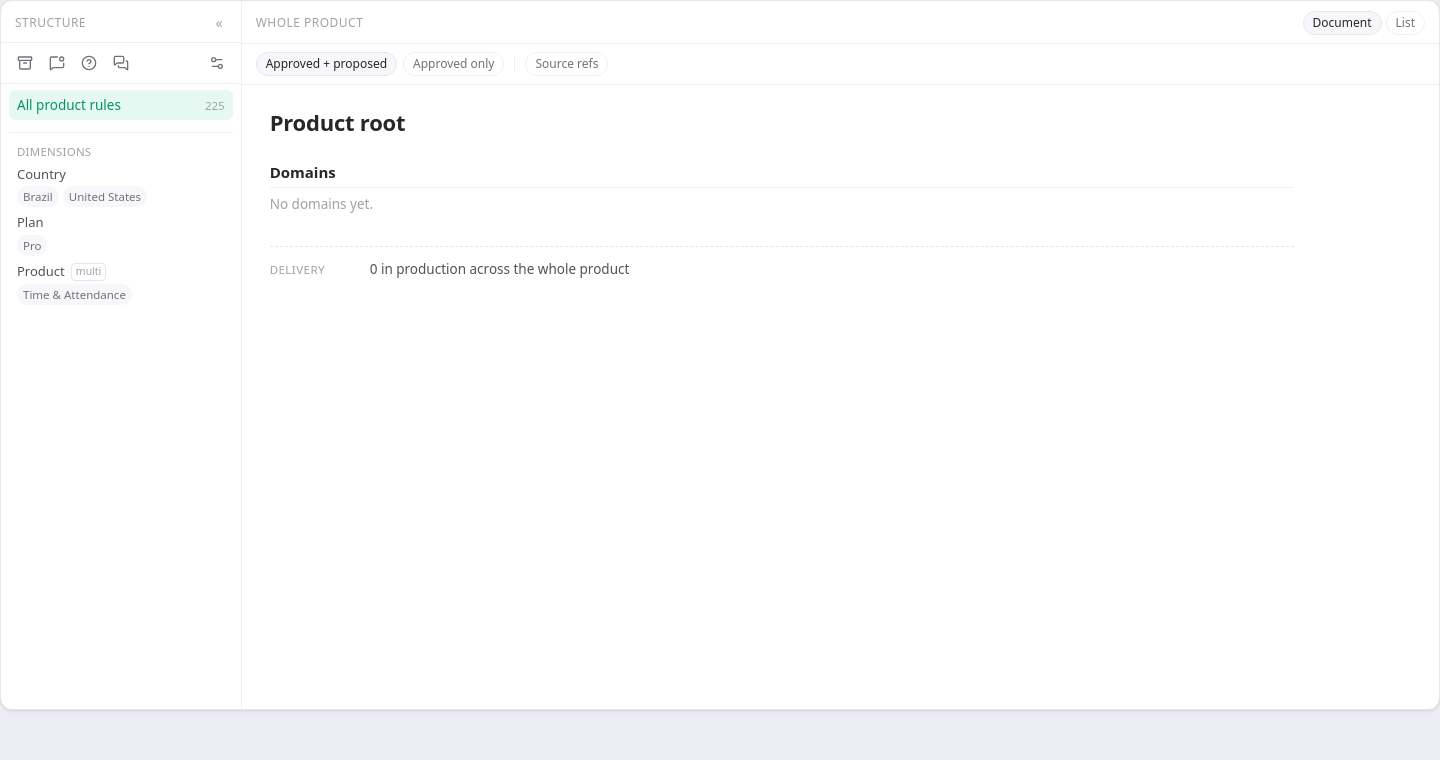
it: labels the hidden count as a lower bound once a second preview page has loaded
The width and height of the screenshot is (1440, 760).
Click the button "List": (1405, 23) [1386,11,1425,35]
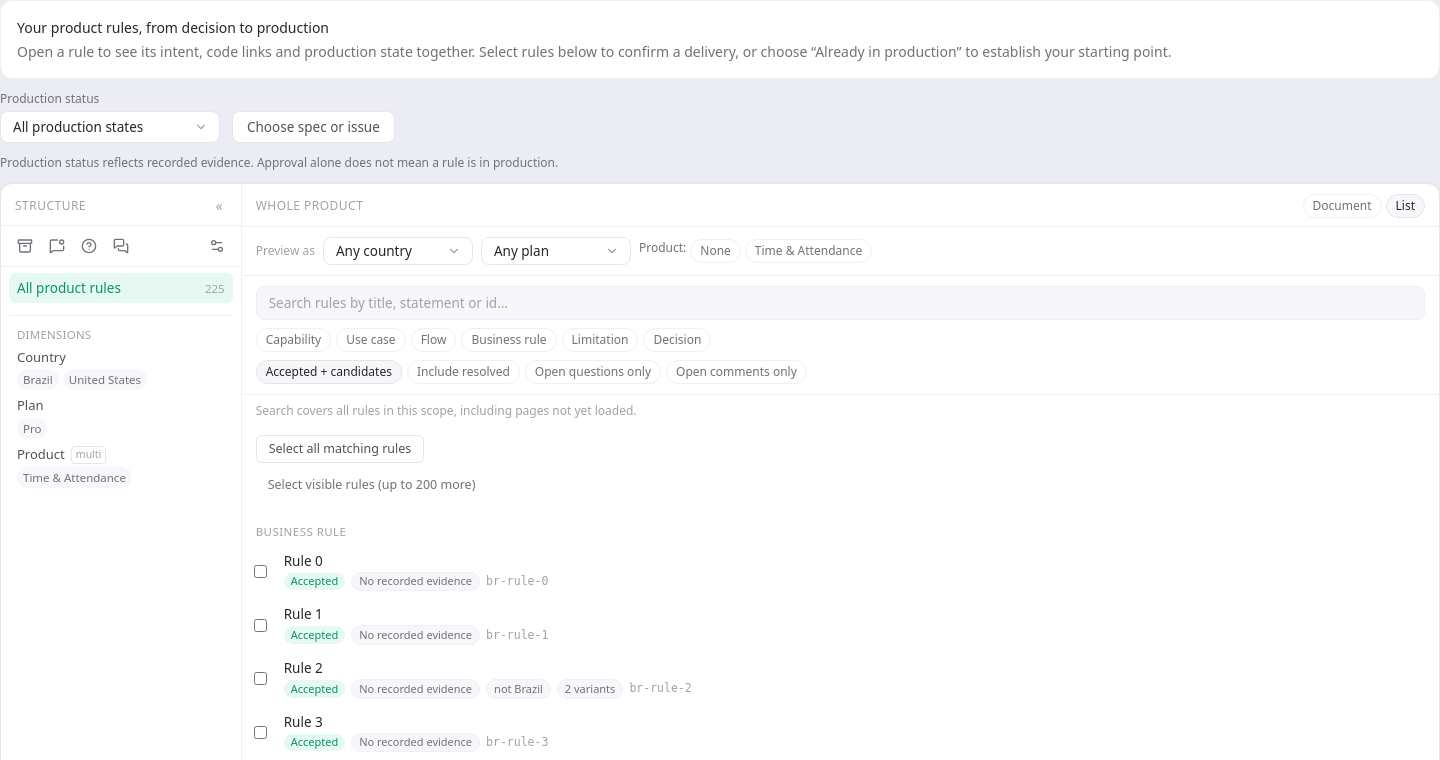
Now the checkbox named "Select Rule 0 for delivery" is shown, box [254,565,267,578]
Select "Brazil" in the dropdown named "Country": (398, 251) [323,237,473,265]
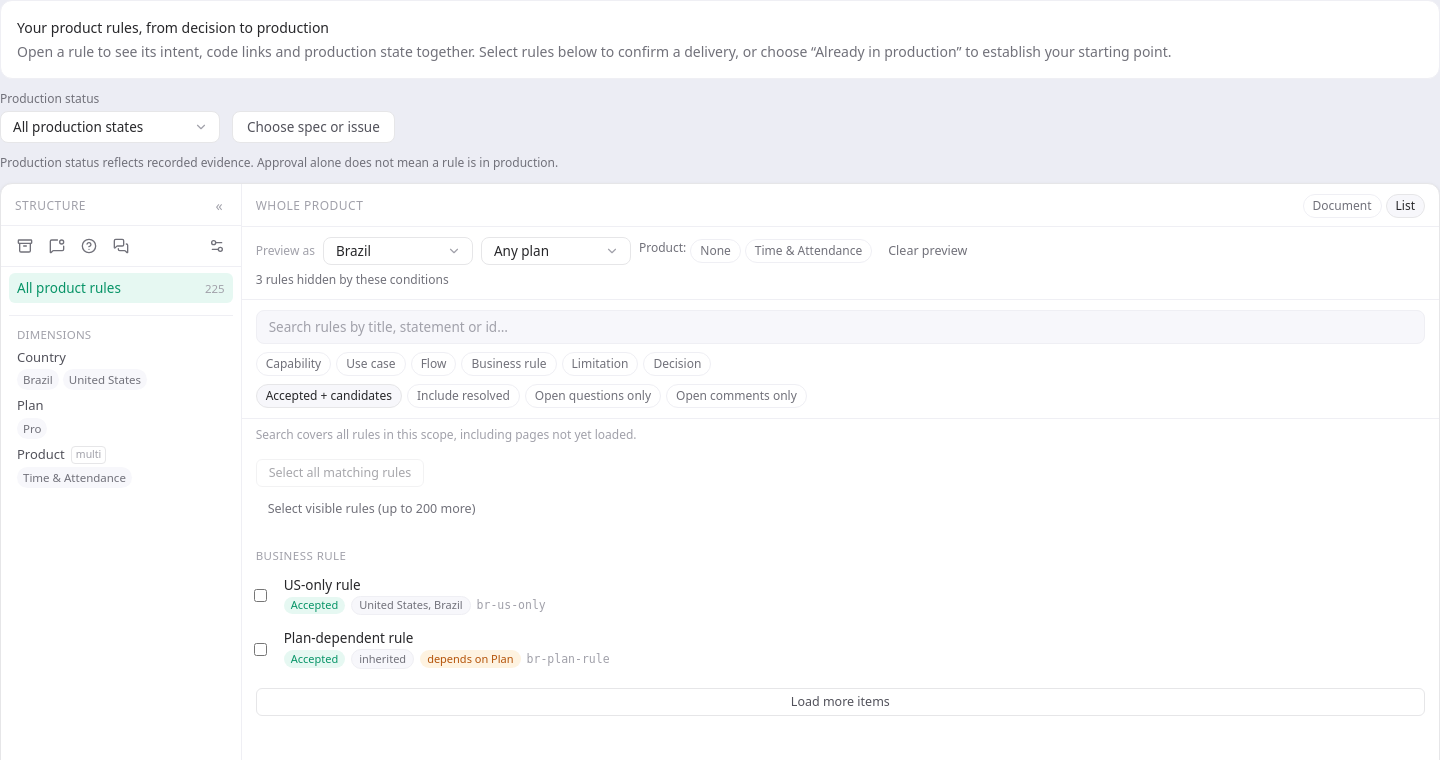
Now the text "3 rules hidden by these conditions" is shown, box [256,271,449,288]
Click the button "Load more items": (840, 702) [256,688,1425,716]
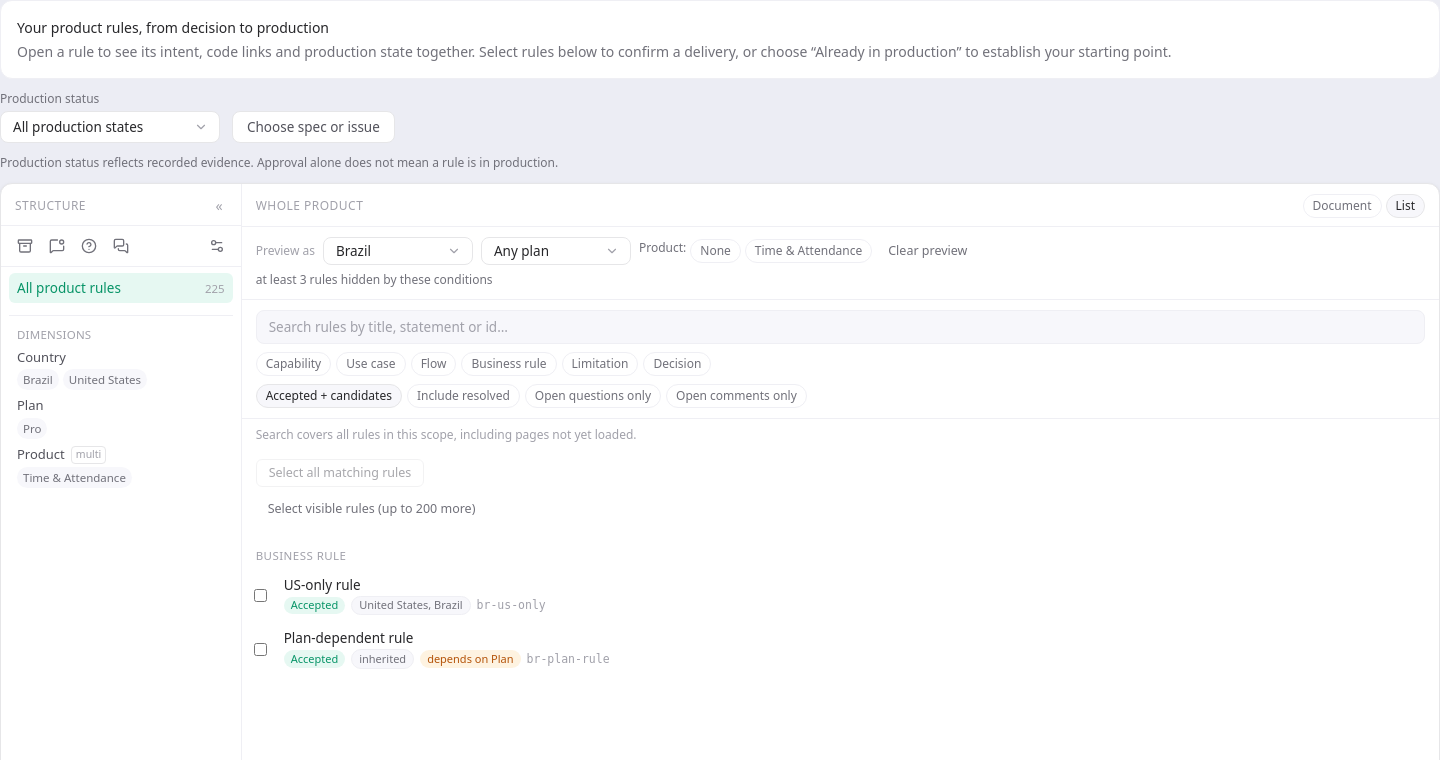
Now the text "at least 3 rules hidden by these conditions" is shown, box [256,271,493,288]
